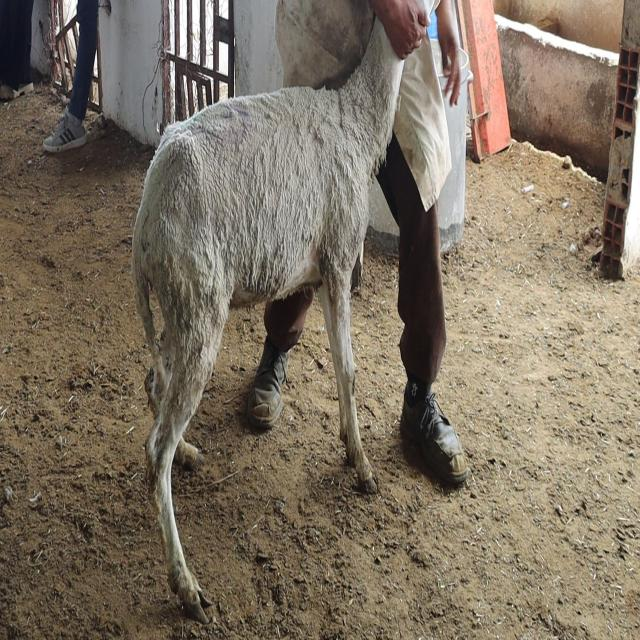Score_1: (131, 18, 403, 621)
